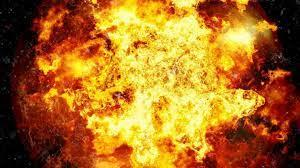fire: (42, 2, 260, 168)
